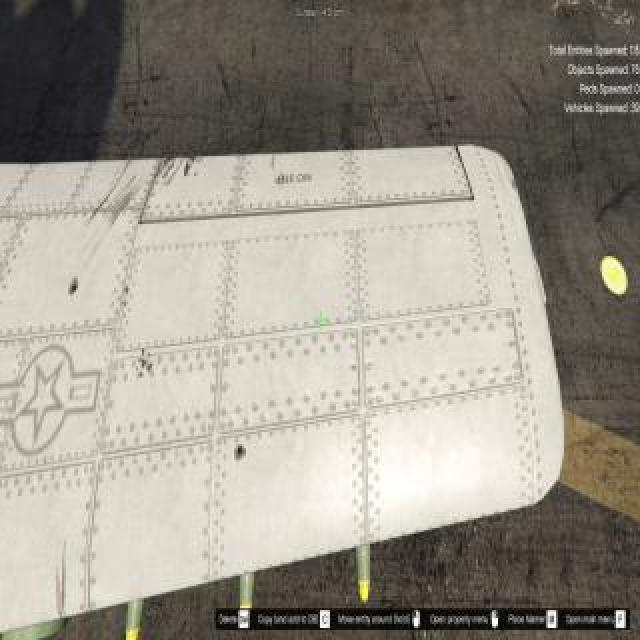crack: (138, 348, 154, 380), (234, 440, 250, 464), (66, 276, 82, 300)
dent: (111, 189, 141, 229), (90, 181, 119, 222), (111, 192, 134, 221), (114, 177, 136, 202), (169, 157, 186, 186), (186, 155, 198, 177), (121, 160, 134, 178), (164, 161, 176, 178), (164, 158, 171, 171)
